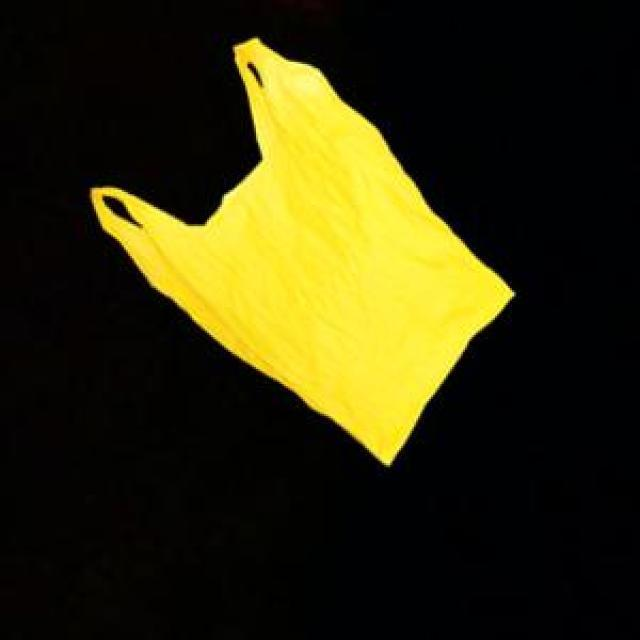waste: (92, 39, 514, 464)
